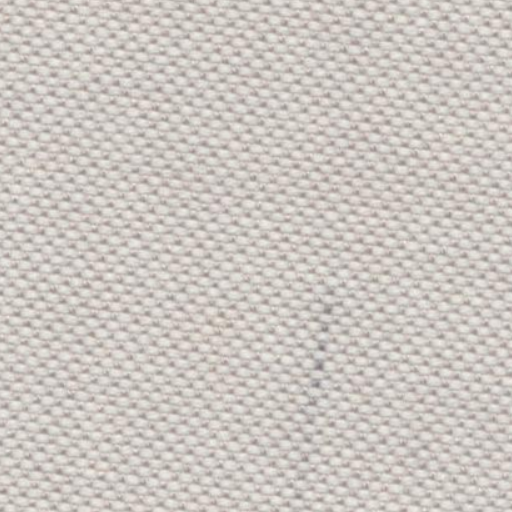WuZi: (294, 271, 340, 502)
